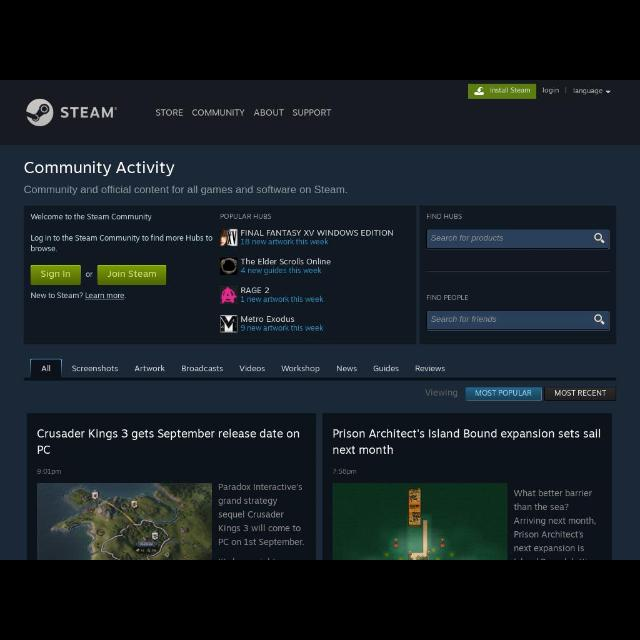icon: (592, 234, 608, 246), (594, 312, 606, 326), (604, 89, 612, 95)
image: (37, 484, 213, 558), (332, 484, 508, 554), (25, 98, 55, 130), (217, 284, 237, 306), (220, 256, 238, 278), (218, 229, 238, 247), (223, 314, 235, 332)
input: (426, 310, 610, 332), (425, 230, 609, 250)
multitab: (25, 353, 463, 383), (464, 82, 616, 98)
text: (512, 488, 598, 554), (219, 482, 307, 546), (332, 426, 600, 440), (32, 235, 212, 253), (34, 428, 300, 439), (27, 160, 173, 176), (28, 188, 346, 195), (242, 254, 332, 268), (242, 228, 392, 235), (31, 212, 151, 220), (61, 104, 117, 120), (240, 236, 330, 244), (241, 266, 323, 274), (243, 296, 324, 304), (332, 444, 393, 454), (474, 388, 532, 398), (433, 233, 503, 241), (190, 107, 246, 117), (68, 364, 122, 374), (29, 292, 82, 302), (426, 386, 462, 400), (241, 326, 323, 332), (216, 212, 272, 220), (180, 364, 224, 374), (278, 364, 320, 374), (242, 316, 294, 324), (555, 388, 607, 396), (432, 316, 498, 322), (254, 106, 286, 118), (426, 294, 470, 302), (573, 84, 601, 96), (156, 107, 184, 117), (34, 442, 51, 458), (428, 211, 462, 219), (330, 466, 356, 476), (240, 286, 272, 294), (414, 365, 446, 373), (35, 468, 61, 477), (294, 108, 332, 114), (238, 365, 266, 373), (372, 365, 400, 373), (336, 363, 356, 373), (134, 366, 164, 372), (540, 86, 560, 94), (84, 270, 96, 280), (38, 365, 52, 373)
textbutton: (98, 266, 166, 284), (469, 84, 535, 98), (31, 266, 80, 284), (84, 291, 128, 301)
toolbar: (5, 84, 638, 144)
